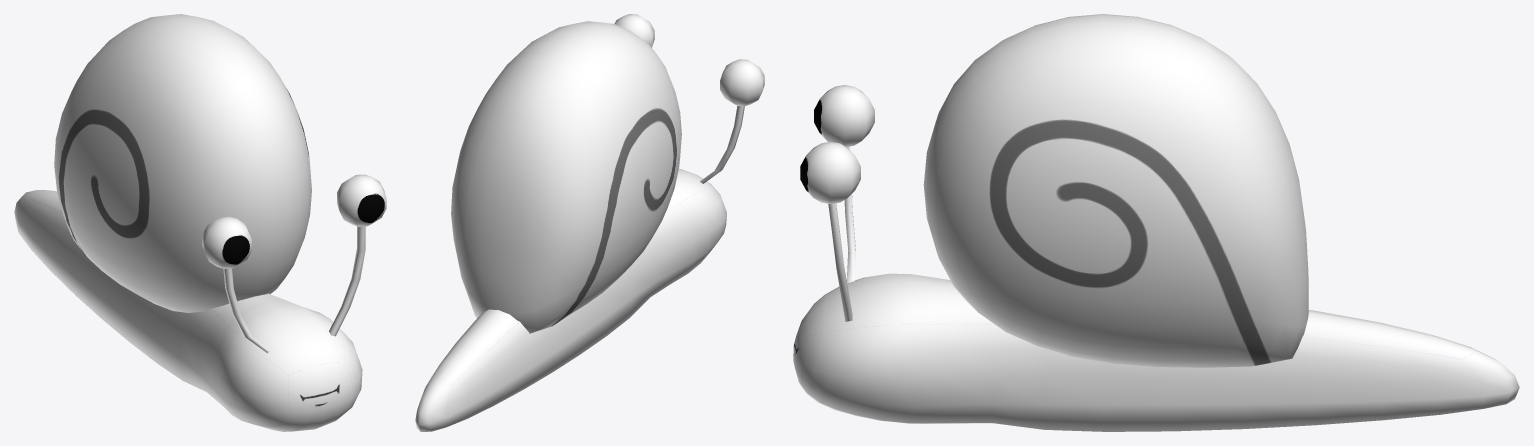
The model's file is snail.fbx.
The picture shows the model from 3 angles, left to right: view 1: azimuth 30°, elevation 25°; view 2: azimuth 150°, elevation 25°; view 3: azimuth 270°, elevation 25°; orthographic projection. The views are drawn at different scales.
Visible parts, largest first — view 1: Shell, Body, Eyes; view 2: Shell, Body, Eyes; view 3: Shell, Body, Eyes.
Part boxes in pixels (x1,y1,x2,y2): Shell: (54, 14, 311, 312); Body: (14, 190, 362, 431); Eyes: (202, 174, 386, 352); Shell: (451, 21, 681, 333); Body: (415, 168, 726, 431); Eyes: (614, 14, 764, 183); Shell: (923, 14, 1308, 367); Body: (793, 273, 1519, 431); Eyes: (800, 85, 874, 321).
Size of the model in its own units: 120 by 202 by 340.
3 materials, 3 textured.
